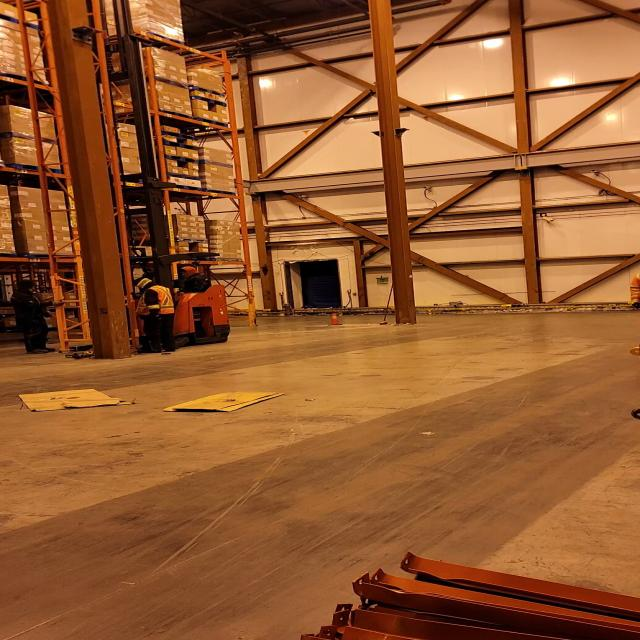forklift: (49, 170, 232, 361)
human: (129, 275, 184, 355), (6, 277, 56, 357), (174, 263, 208, 293), (631, 260, 640, 340)
objectofinterest: (41, 12, 133, 360), (10, 387, 138, 412), (160, 390, 284, 413)
